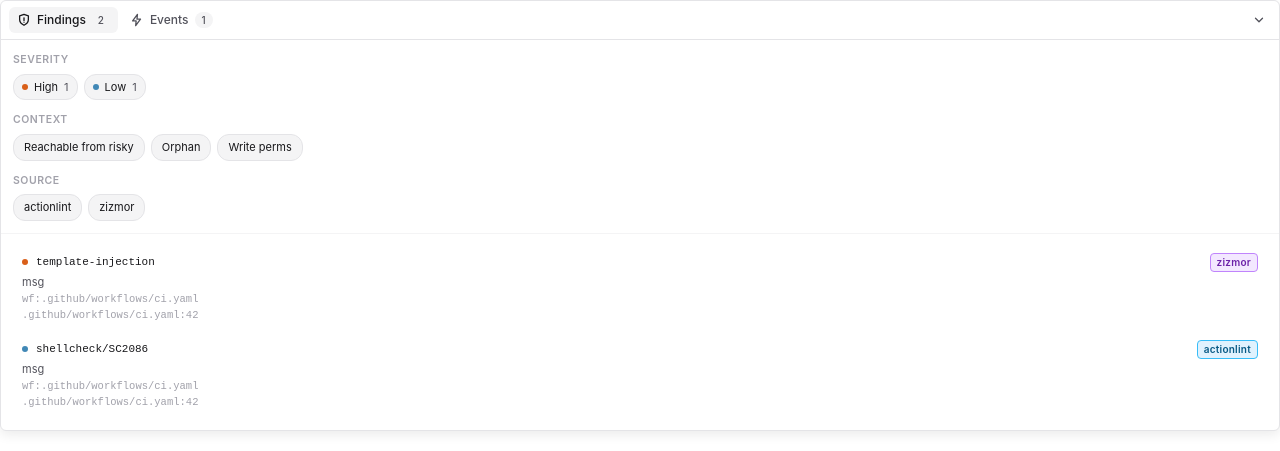
Test case: FindingsFloat › collapses the body when the chevron is toggled
expect the button with test id "float-finding-row" is shown: met, box [13,246,1267,331]
Click the button named "Collapse panel" at (1259, 20), box [1247,8,1271,32]
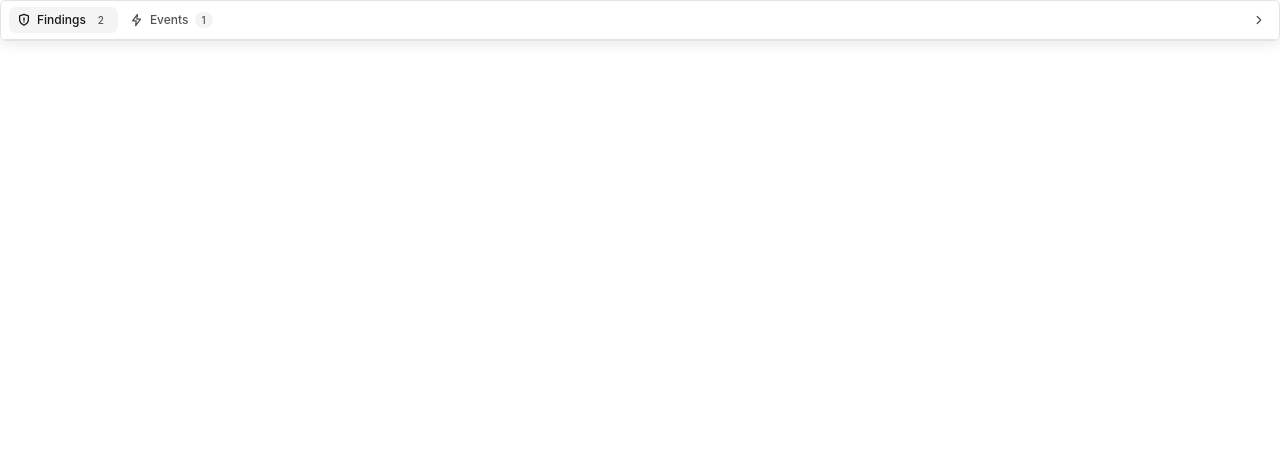
expect the button with test id "float-finding-row" is gone: met
